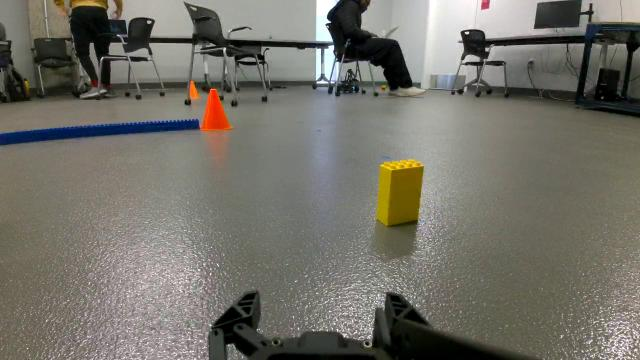lego: (364, 152, 433, 240)
